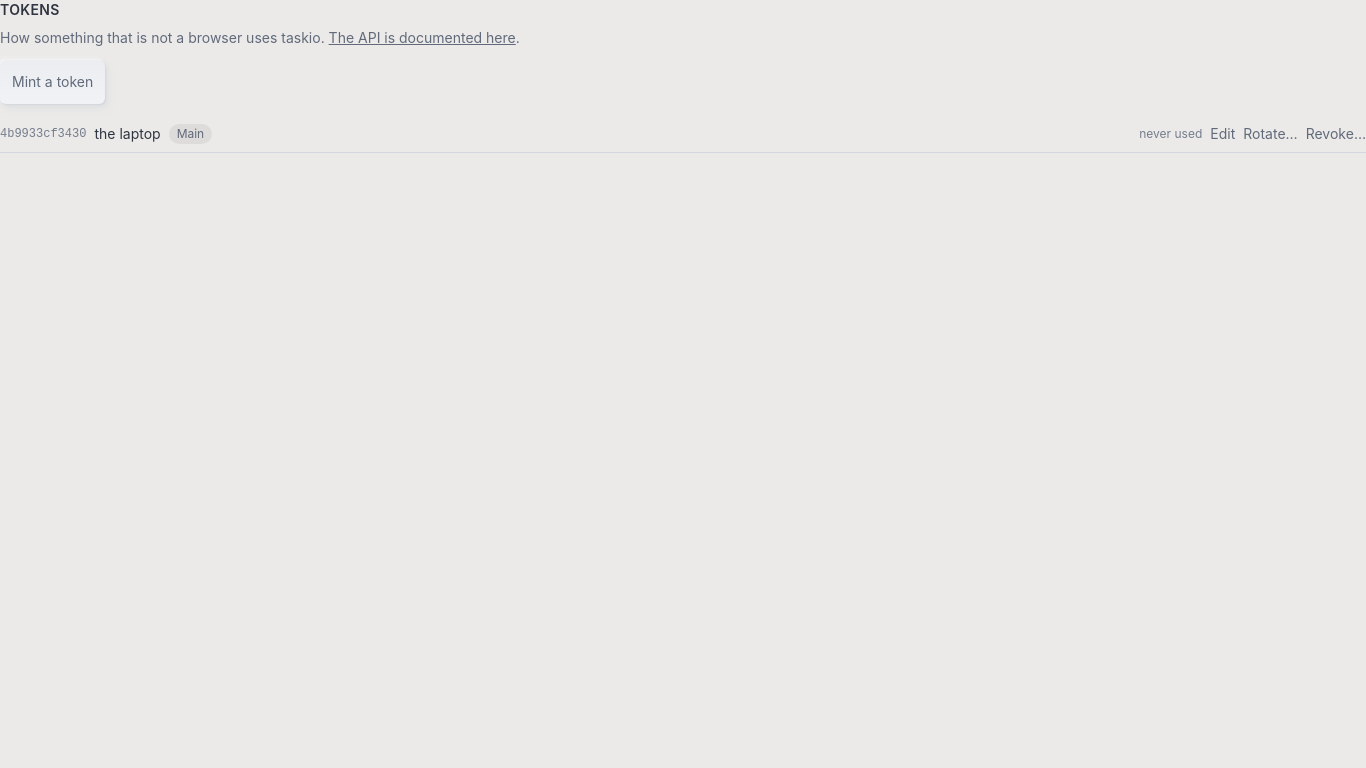
Test: rotating a token › asks, and a no does nothing
Click the button "Rotate…" at (1270, 134), box [1243,124,1298,144]
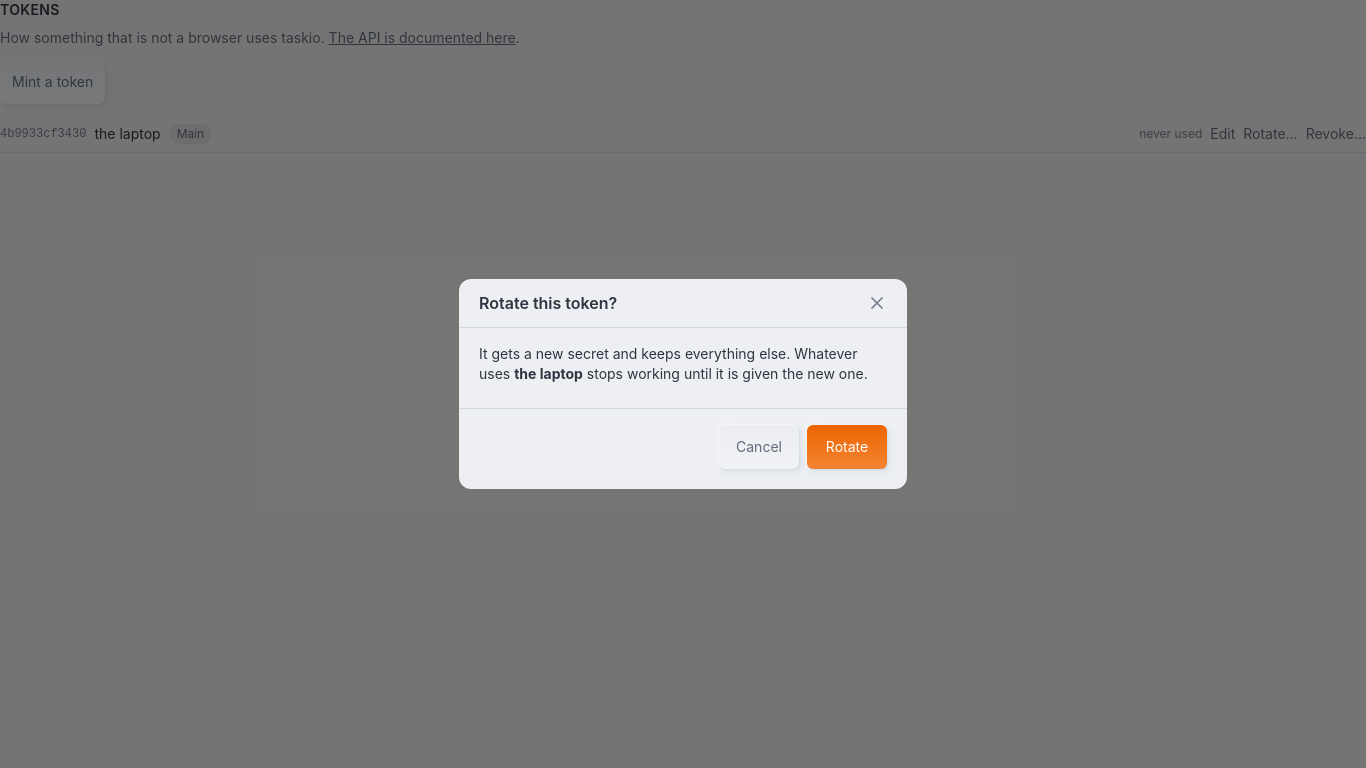
Click the button "Cancel" at (759, 447), box [719,425,799,469]
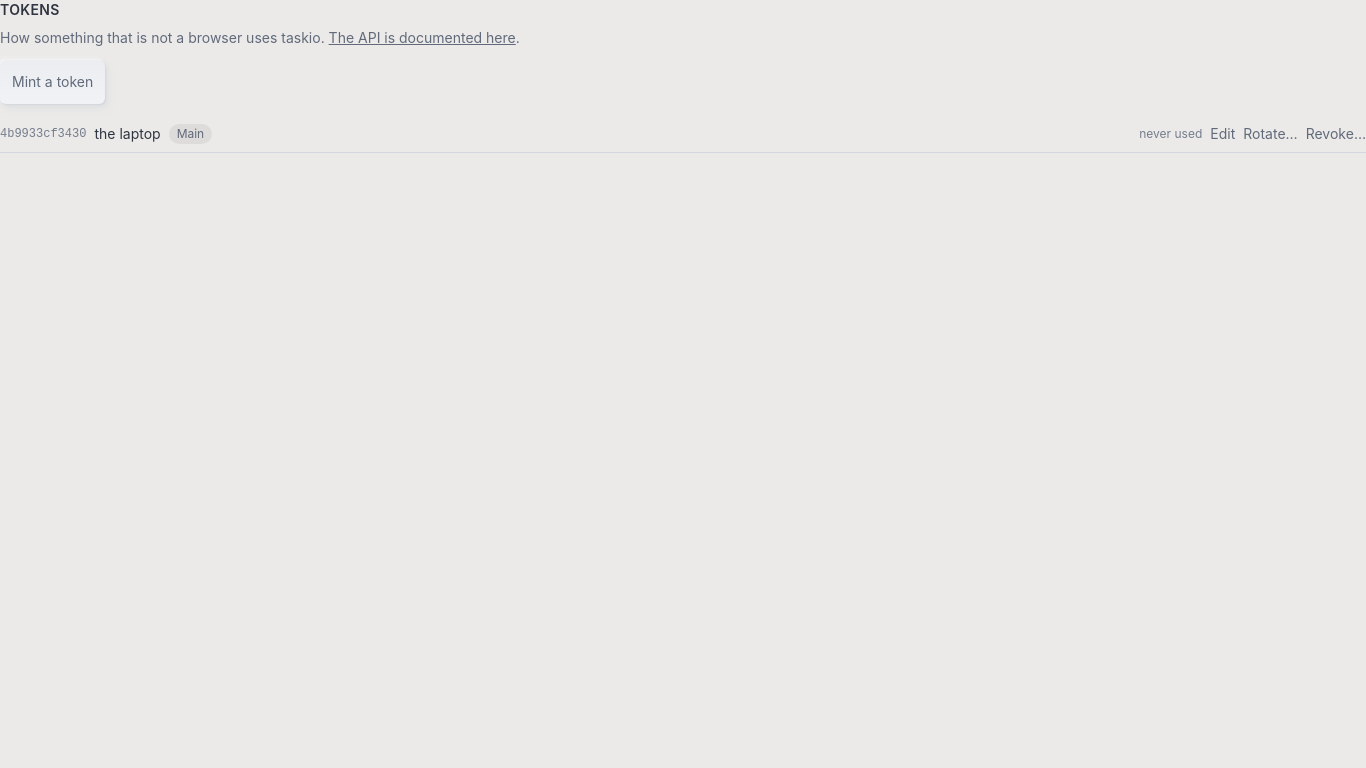
Now the dialog is gone
